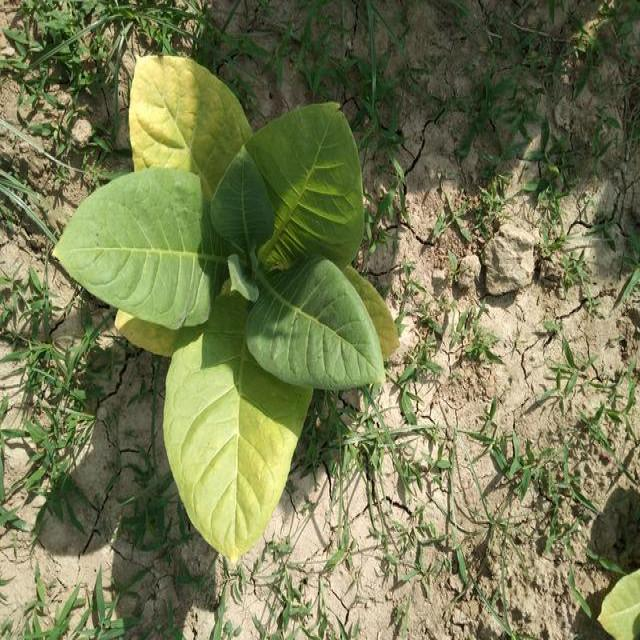crop: (55, 58, 397, 566)
